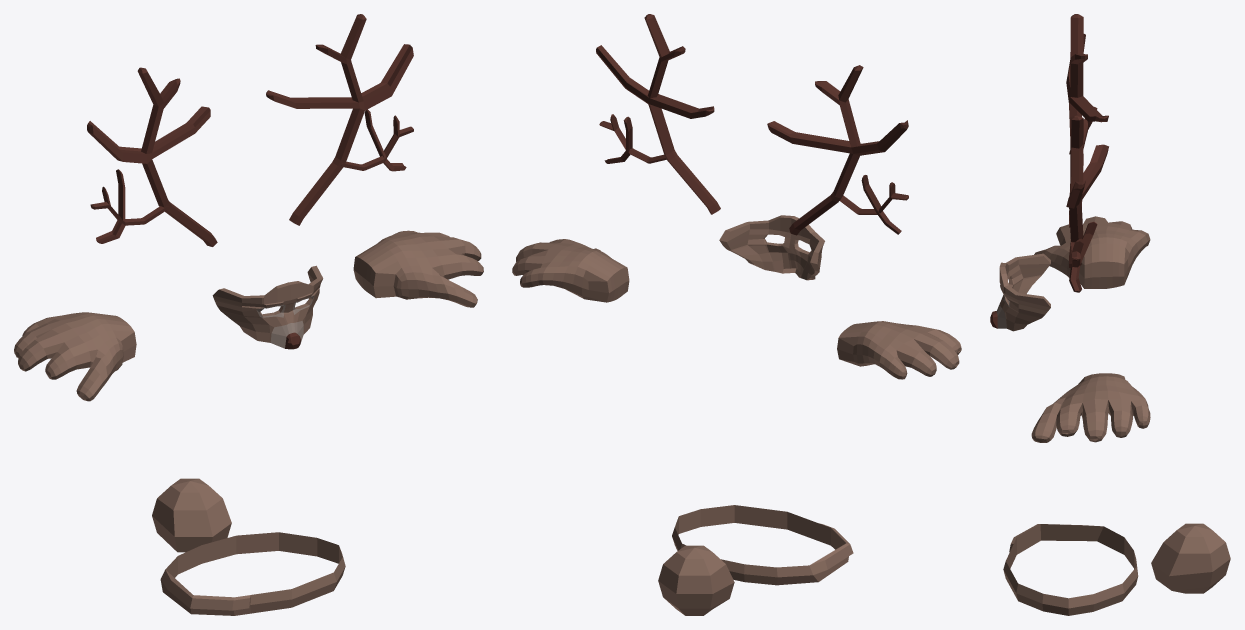
File: Deer.fbx
The picture shows the model from 3 angles, left to right: view 1: azimuth 30°, elevation 25°; view 2: azimuth 150°, elevation 25°; view 3: azimuth 270°, elevation 25°; orthographic projection. The views are drawn at different scales.
Visible parts, largest first — view 1: DeerHands, DeerEars, DeerBelt, DeerMask, DeerTail; view 2: DeerHands, DeerEars, DeerBelt, DeerMask, DeerTail; view 3: DeerHands, DeerEars, DeerBelt, DeerTail, DeerMask.
Boxes of the visible parts, x1=… form: DeerHands: x1=14, y1=230, x2=483, y2=401; DeerEars: x1=87, y1=14, x2=413, y2=246; DeerBelt: x1=160, y1=532, x2=345, y2=615; DeerMask: x1=212, y1=265, x2=323, y2=349; DeerTail: x1=152, y1=478, x2=231, y2=552; DeerHands: x1=512, y1=239, x2=961, y2=379; DeerEars: x1=596, y1=14, x2=908, y2=235; DeerBelt: x1=672, y1=505, x2=853, y2=585; DeerMask: x1=719, y1=215, x2=824, y2=280; DeerTail: x1=658, y1=545, x2=734, y2=615; DeerHands: x1=1031, y1=216, x2=1150, y2=442; DeerEars: x1=1066, y1=14, x2=1108, y2=292; DeerBelt: x1=1003, y1=524, x2=1138, y2=615; DeerTail: x1=1151, y1=523, x2=1230, y2=593; DeerMask: x1=990, y1=253, x2=1050, y2=331.
Size of the model in its own units: 112 by 129 by 53.62.
